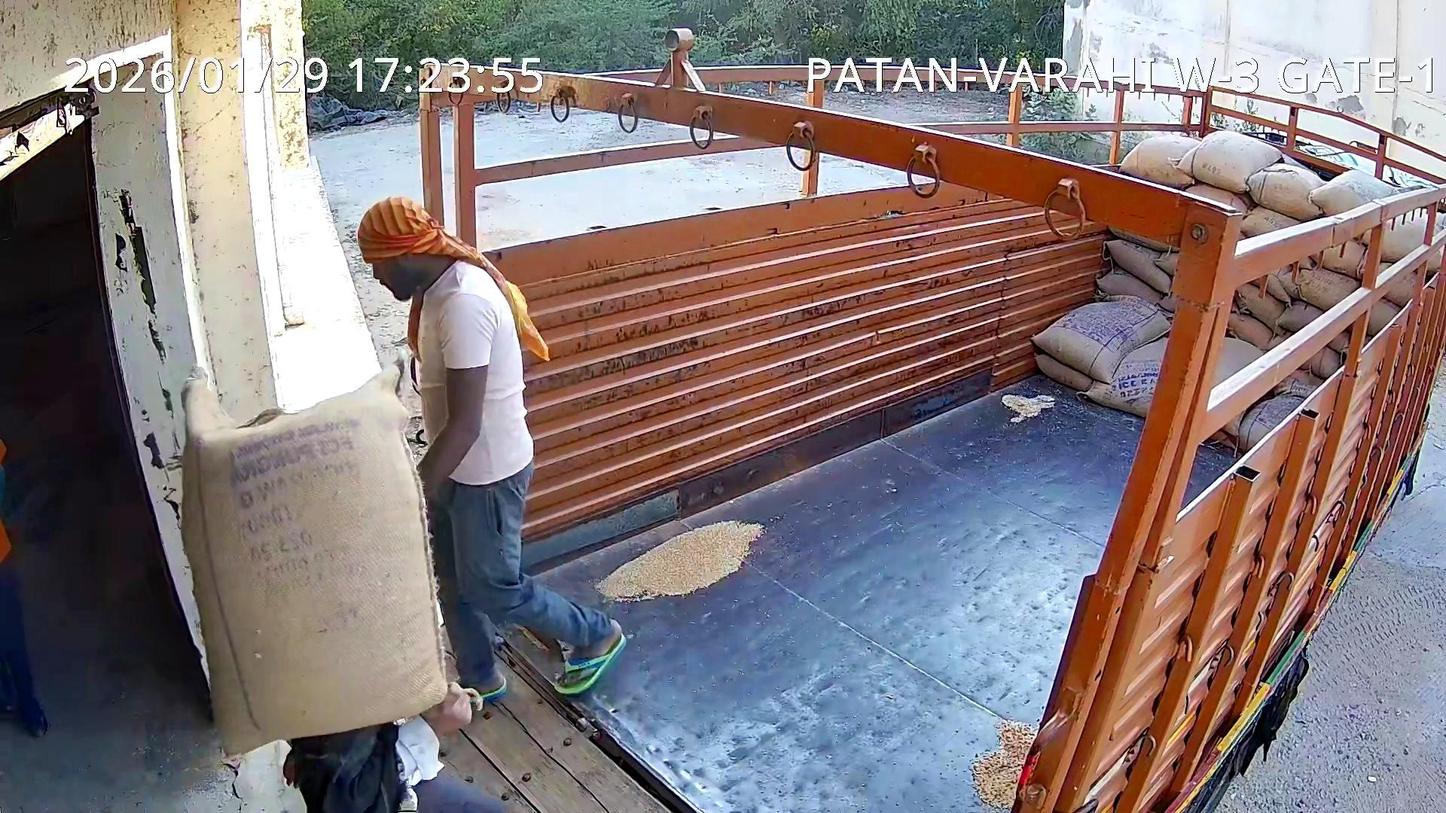Sack: (182, 358, 447, 752)
